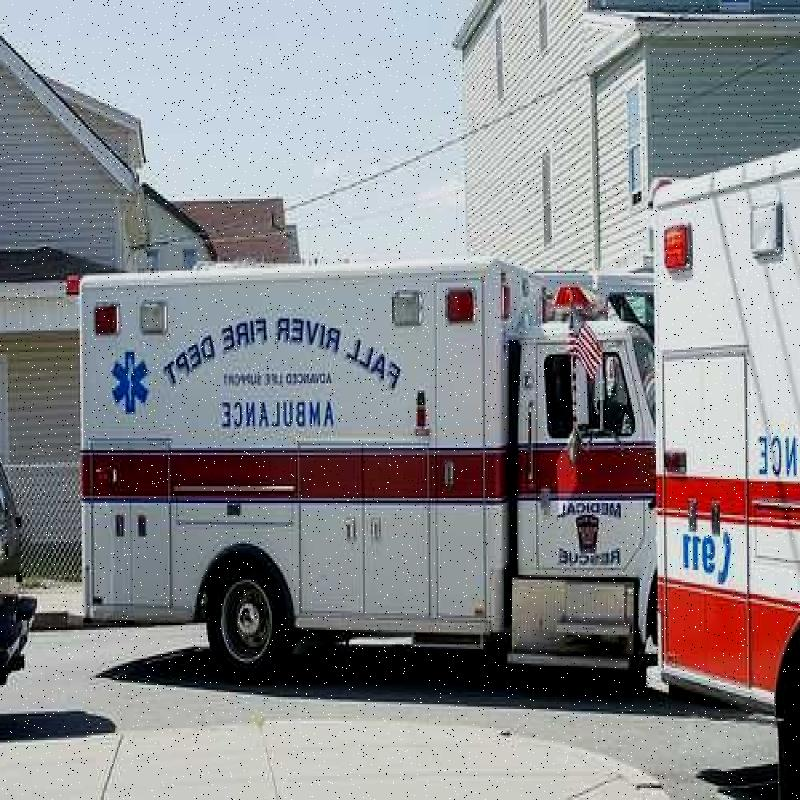AmbulanceSiren: (553, 257, 607, 329)
